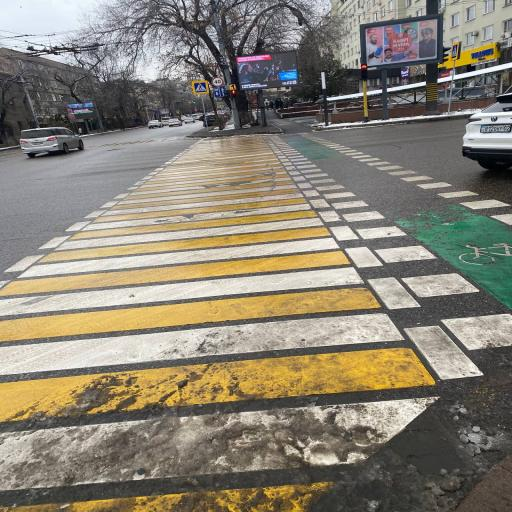chair: (0, 137, 481, 512), (88, 136, 184, 148)
pole: (359, 64, 372, 80), (228, 84, 239, 98)
